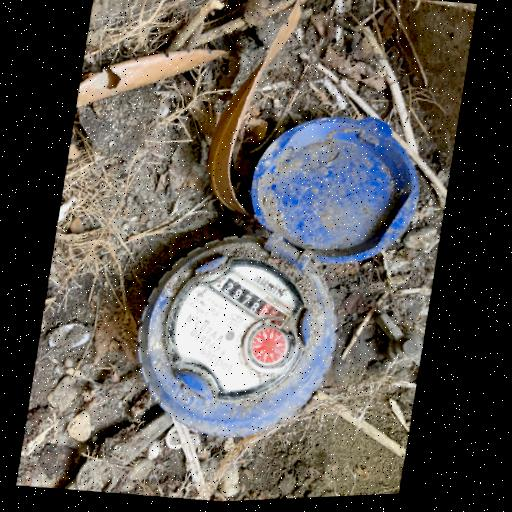0: (254, 300, 274, 321)
2: (219, 276, 239, 297)
3: (265, 305, 282, 324)
7: (238, 288, 258, 309)
8: (246, 293, 266, 315)
9: (229, 282, 249, 303), (276, 311, 288, 323)
border_water_meter_number: (209, 267, 298, 337)
